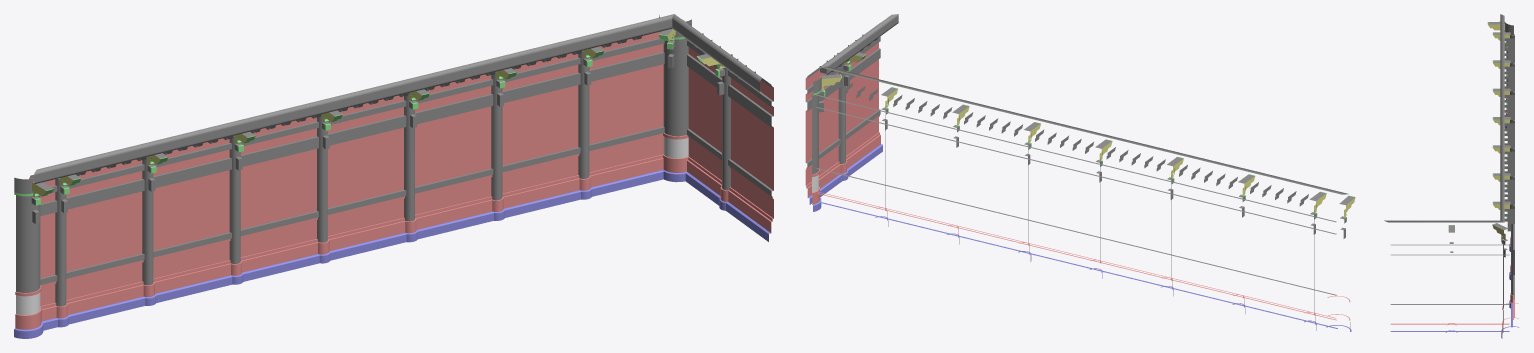
File: SM_ENV_KNVLLG03_Bridge_ConnectorA_2.gltf
3 views of the same model, side by side, from view 1: azimuth 30°, elevation 25°; view 2: azimuth 150°, elevation 25°; view 3: azimuth 270°, elevation 25° (orthographic). The views are drawn at different scales.
Visible parts, largest first — view 1: SM_ENV_KNVLLG03_Bridge_ConnectorA_2; view 2: SM_ENV_KNVLLG03_Bridge_ConnectorA_2; view 3: SM_ENV_KNVLLG03_Bridge_ConnectorA_2.
Boxes of the visible parts, box(x1,y1,x2,y2) form: SM_ENV_KNVLLG03_Bridge_ConnectorA_2: box(14, 14, 773, 338); SM_ENV_KNVLLG03_Bridge_ConnectorA_2: box(805, 14, 1355, 331); SM_ENV_KNVLLG03_Bridge_ConnectorA_2: box(1384, 14, 1519, 338).
Size of the model in its own units: 25.12 by 6 by 6.64.
